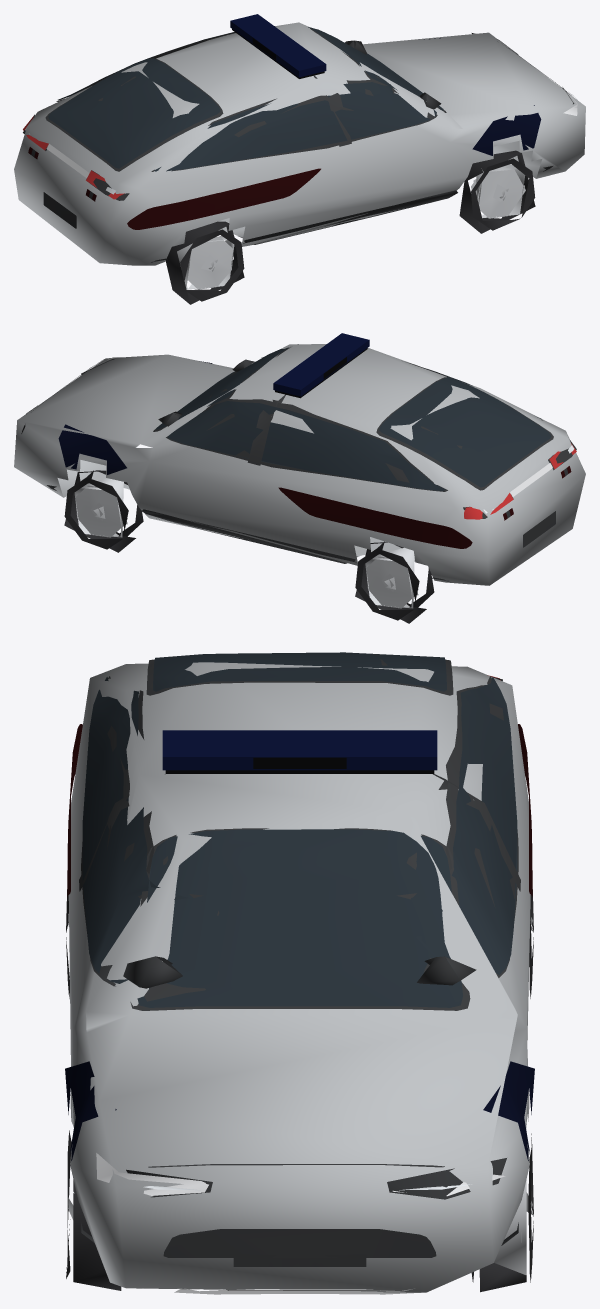
Rendered from police_pn_ufar.glb.
The picture shows the model from 3 angles, top to bottom: view 1: azimuth 30°, elevation 25°; view 2: azimuth 150°, elevation 25°; view 3: azimuth 270°, elevation 25°; orthographic projection. The views are drawn at different scales.
Visible parts, largest first — view 1: Body, RearGlass, Glass-1, WheelRR, WheelFR, PNRed-1, LightBar, PNArrowB-1, WinFrame-1, Windshield, RgFrame, Clad-1 (+3 smaller); view 2: Body, Glass1, RearGlass, WheelRL, WheelFL, PNRed1, LightBar, WinFrame1, PNArrowB1, Windshield, RgFrame, Rub1 (+4 smaller); view 3: Body, Windshield, Glass1, Glass-1, LightBar, RearGlass, Intake, WheelFL, WsFrame, WheelFR, WinFrame1, HeadBezel (+12 smaller).
Boxes of the visible parts, box(x1,y1,x2,y2) form: Body: box(14, 22, 585, 265); RearGlass: box(48, 58, 220, 168); Glass-1: box(154, 79, 436, 171); WheelRR: box(165, 221, 244, 304); WheelFR: box(459, 150, 535, 233); PNRed-1: box(127, 168, 320, 229); LightBar: box(230, 14, 326, 77); PNArrowB-1: box(472, 105, 541, 155); WinFrame-1: box(151, 75, 437, 171); Windshield: box(308, 27, 443, 110); RgFrame: box(45, 58, 223, 171); Clad-1: box(151, 166, 552, 262); Body: box(14, 344, 585, 585); Glass1: box(167, 398, 445, 491); RearGlass: box(379, 377, 551, 487); WheelRL: box(355, 541, 434, 623); WheelFL: box(64, 470, 143, 552); PNRed1: box(278, 487, 472, 548); LightBar: box(273, 333, 369, 396); WinFrame1: box(166, 394, 447, 491); PNArrowB1: box(58, 424, 126, 474); Windshield: box(155, 344, 298, 429); RgFrame: box(376, 377, 553, 490); Rub1: box(145, 512, 356, 562); Body: box(68, 662, 530, 1292); Windshield: box(137, 829, 462, 1007); Glass1: box(380, 677, 517, 974); Glass-1: box(82, 677, 202, 983); LightBar: box(162, 730, 437, 770); RearGlass: box(153, 652, 446, 691); Intake: box(163, 1229, 436, 1258); WheelFL: box(471, 1133, 533, 1292); WsFrame: box(130, 828, 470, 1010); WheelFR: box(66, 1130, 121, 1290); WinFrame1: box(397, 676, 518, 977); HeadBezel: box(126, 1158, 506, 1199).
Size of the model in its own units: 4.56 by 1.68 by 1.92.
